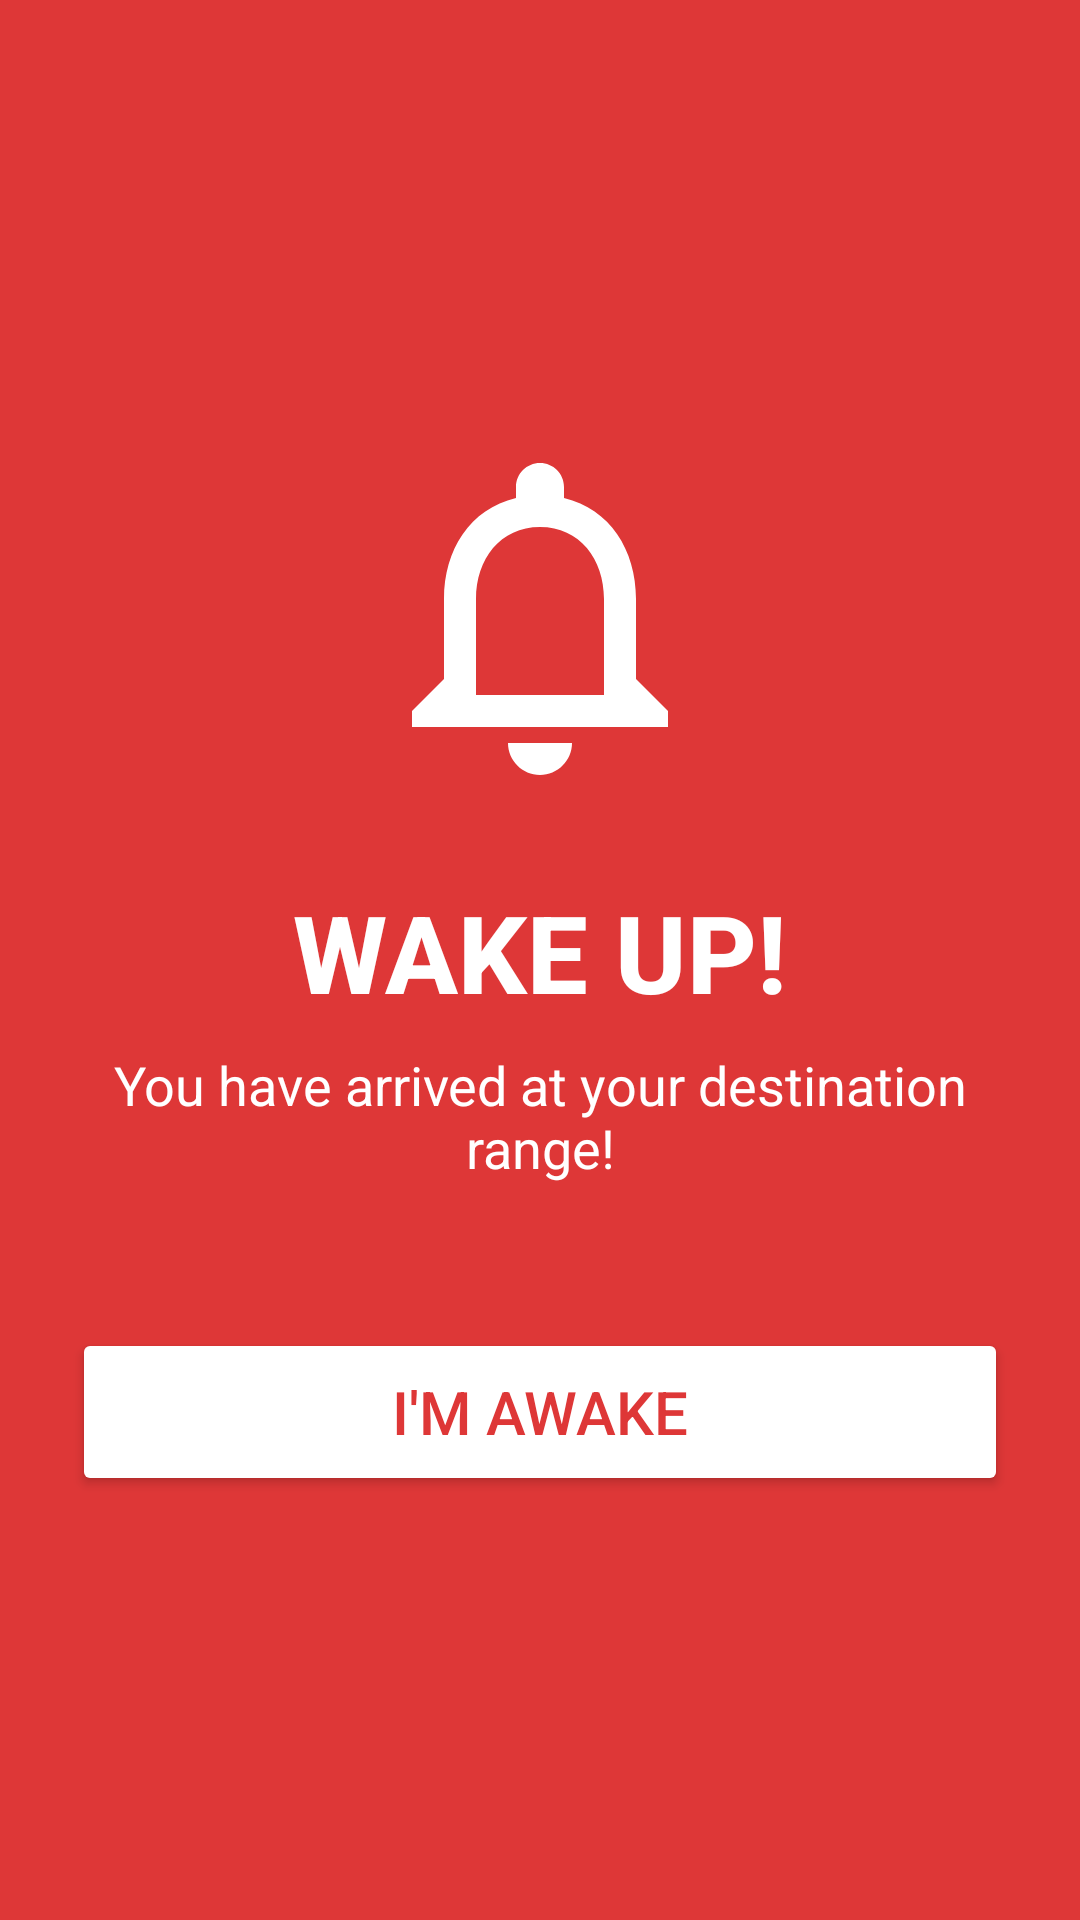

Icon bounding boxes for this 1080px×1920px phone screenshot, format bbox(x1, y1, x2, y2):
Alarm Icon: bbox(412, 463, 668, 775)
